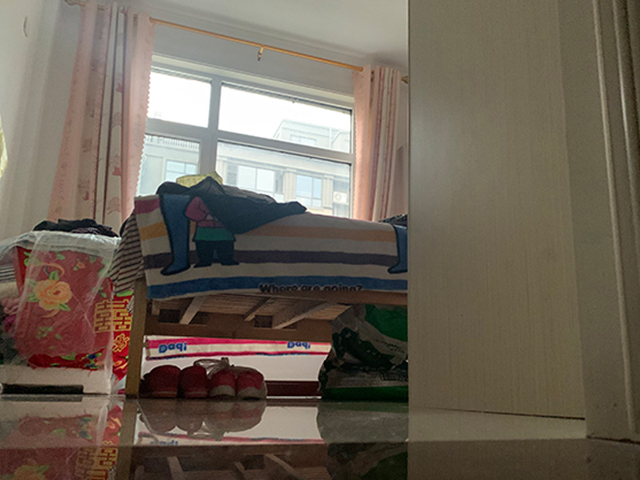bed: (106, 171, 409, 399)
curtain: (50, 1, 141, 234), (351, 63, 401, 225)
